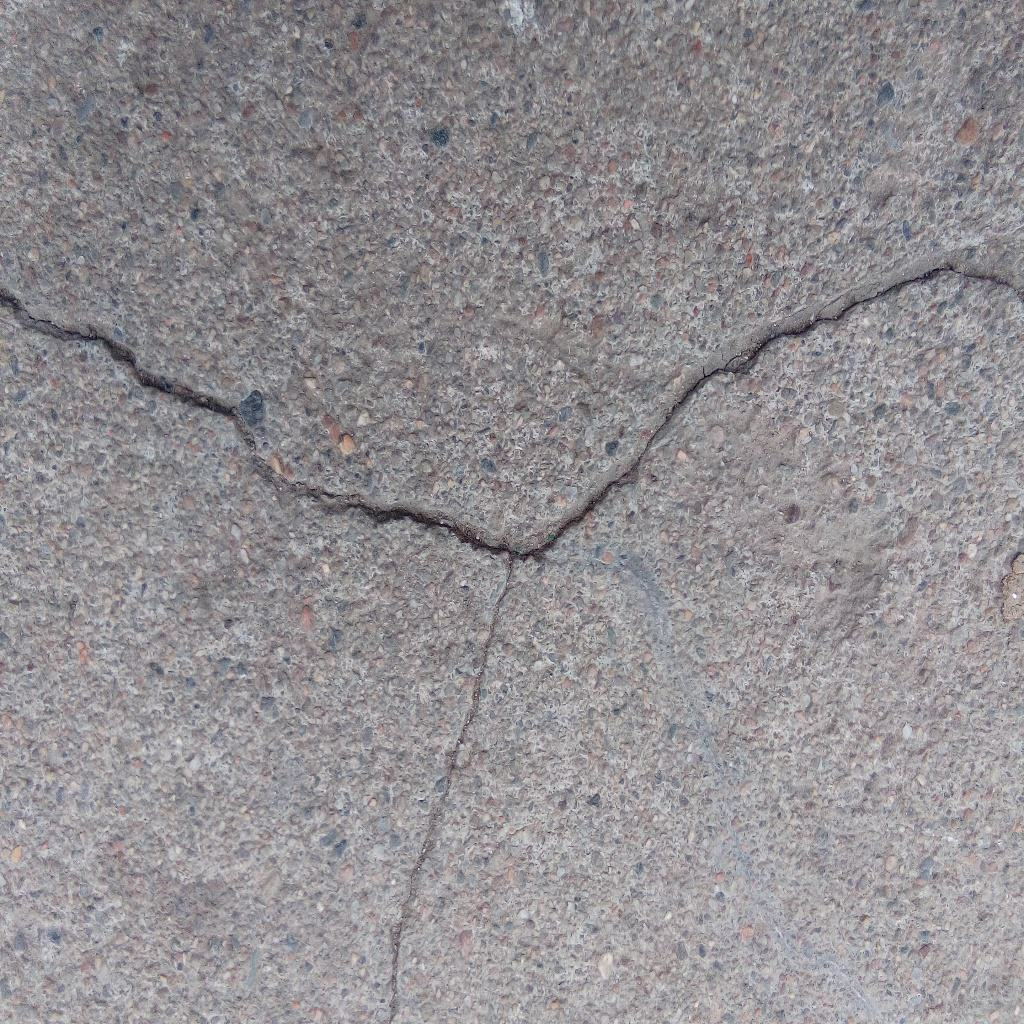Crack: (516, 264, 1024, 559), (1, 288, 516, 558), (388, 559, 518, 1024)
